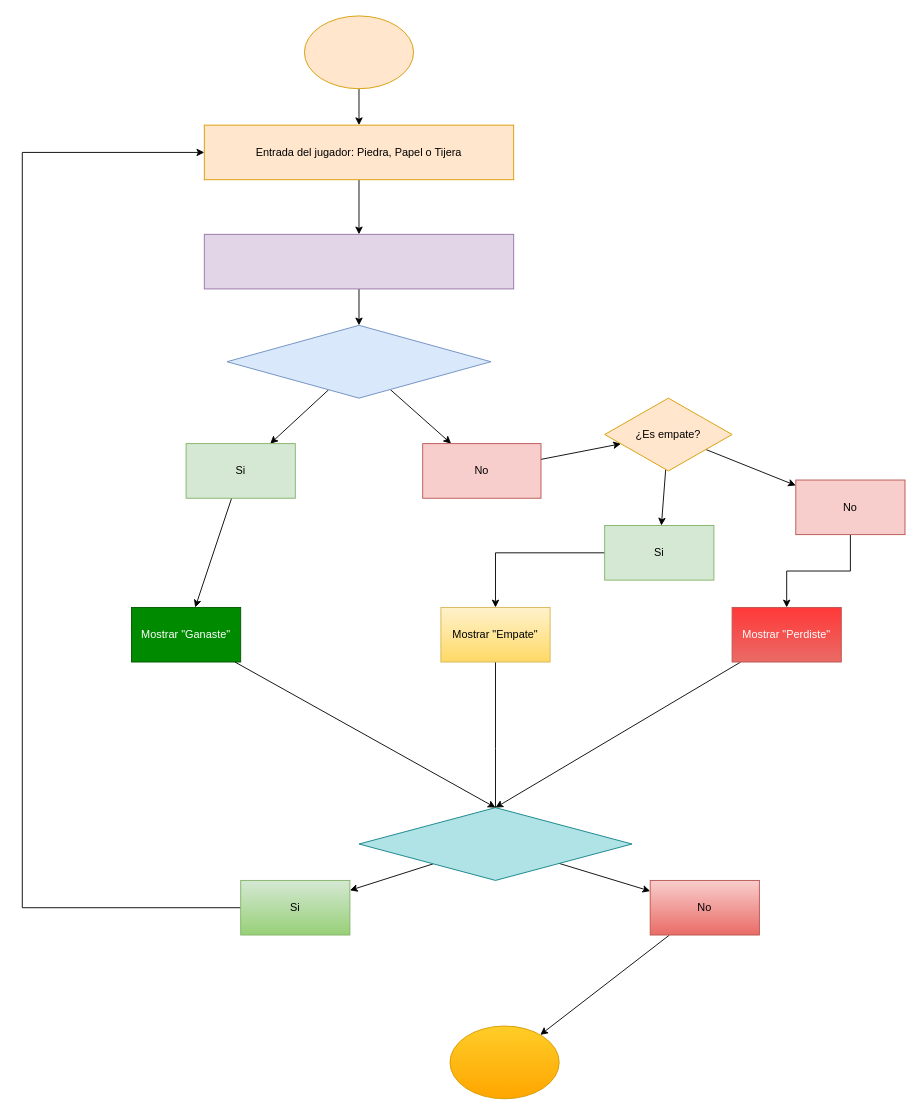
Image size: 921x1115. Some labels were removed from this diagram. The centre of each missing label's shape, as x and y in pixels:
Fin del juego: the point at 504,1062
Generar elección del sistema (Aleatorio): the point at 358,261
Inicio del Juego: the point at 358,52
¿Jugador gana?: the point at 358,361
¿Jugar de nuevo?: the point at 495,843
